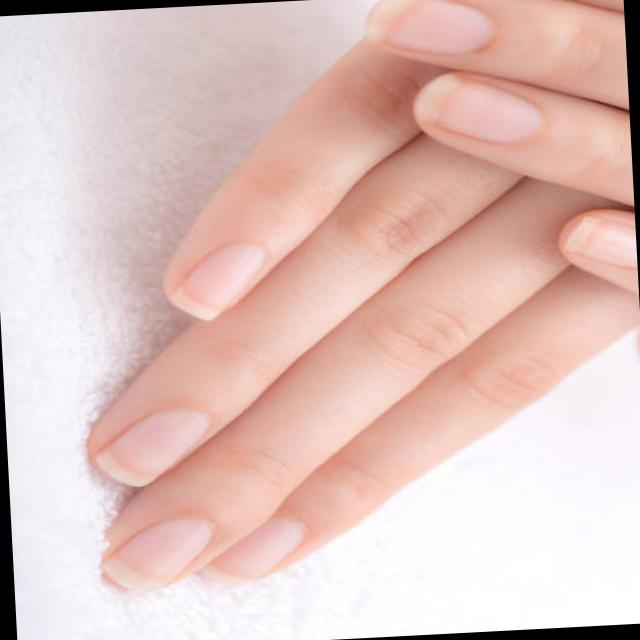Nail: (417, 74, 542, 143), (95, 410, 208, 486), (102, 518, 212, 592), (169, 245, 264, 320), (367, 0, 494, 56), (211, 518, 302, 581), (567, 218, 638, 269)
